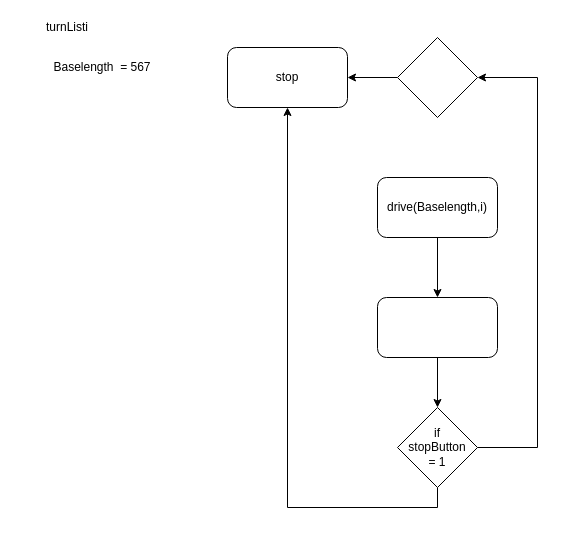
This 563x533 diagram has some shape labels left out. The centre of each missing label's shape, as x and y in pixels:
"for turnlisti" belongs at [437,77].
"turn(90)" belongs at [437,327].
